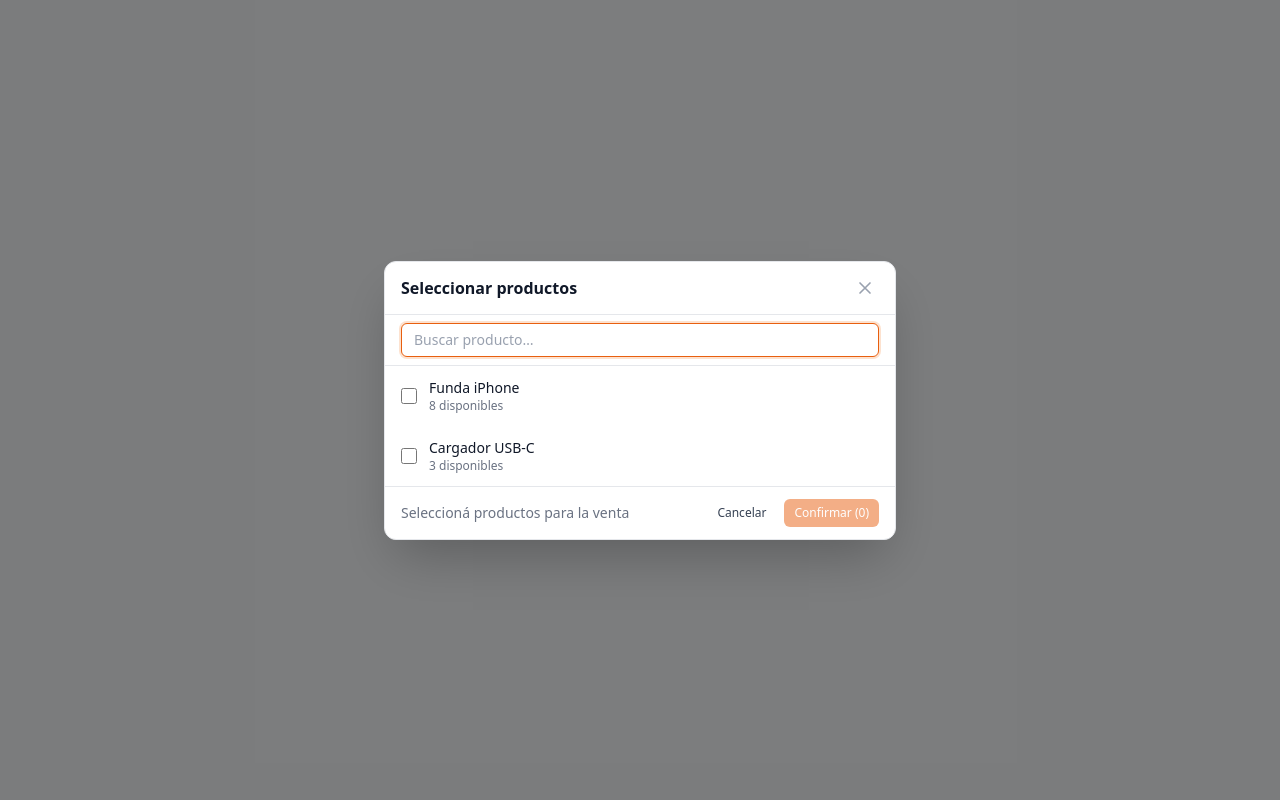
Test: SaleNewModal › refleja la cantidad final cuando se vuelve a elegir el mismo producto
expect the text "Funda iPhone" is shown: met, box left=429, top=378, right=519, bottom=396
Click the checkbox labelled "Funda iPhone 8 disponibles": (409, 396) left=401, top=388, right=417, bottom=404
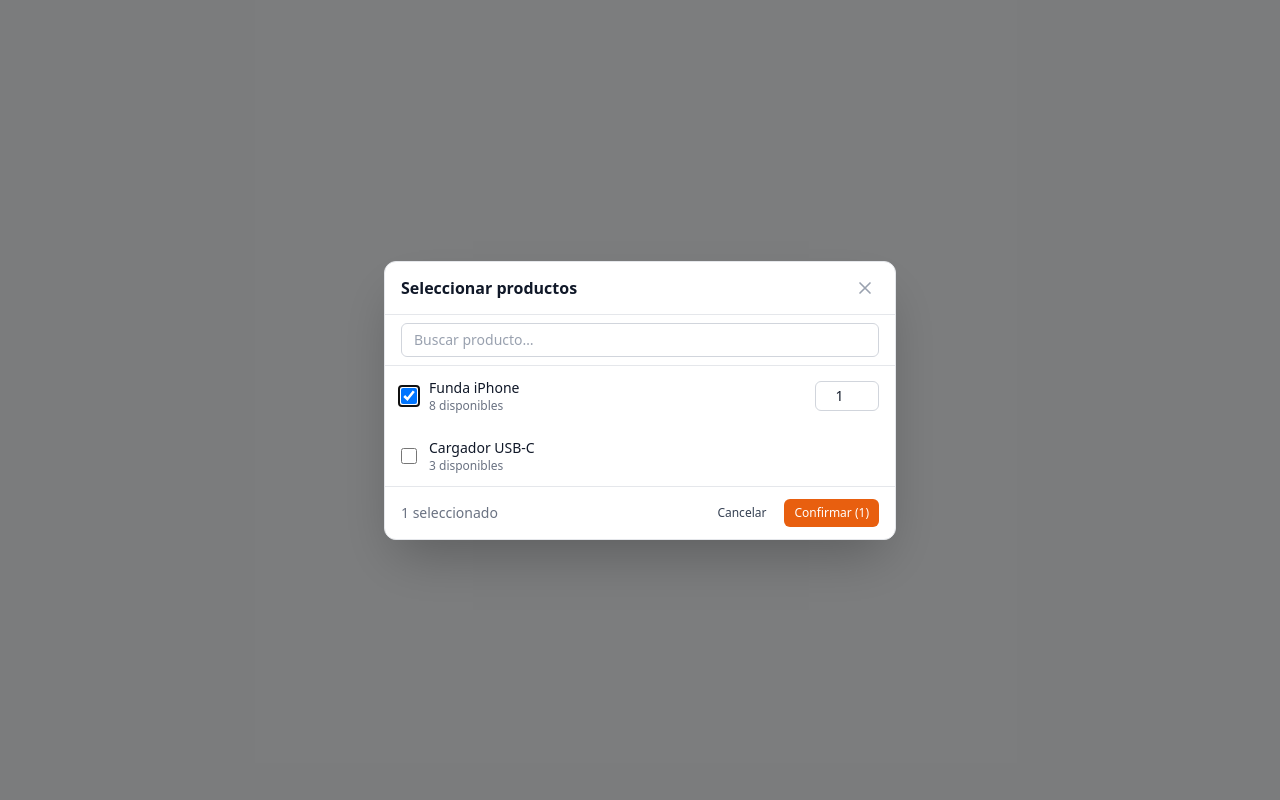
Click the button "Confirmar (1)": (832, 512) left=784, top=498, right=879, bottom=526
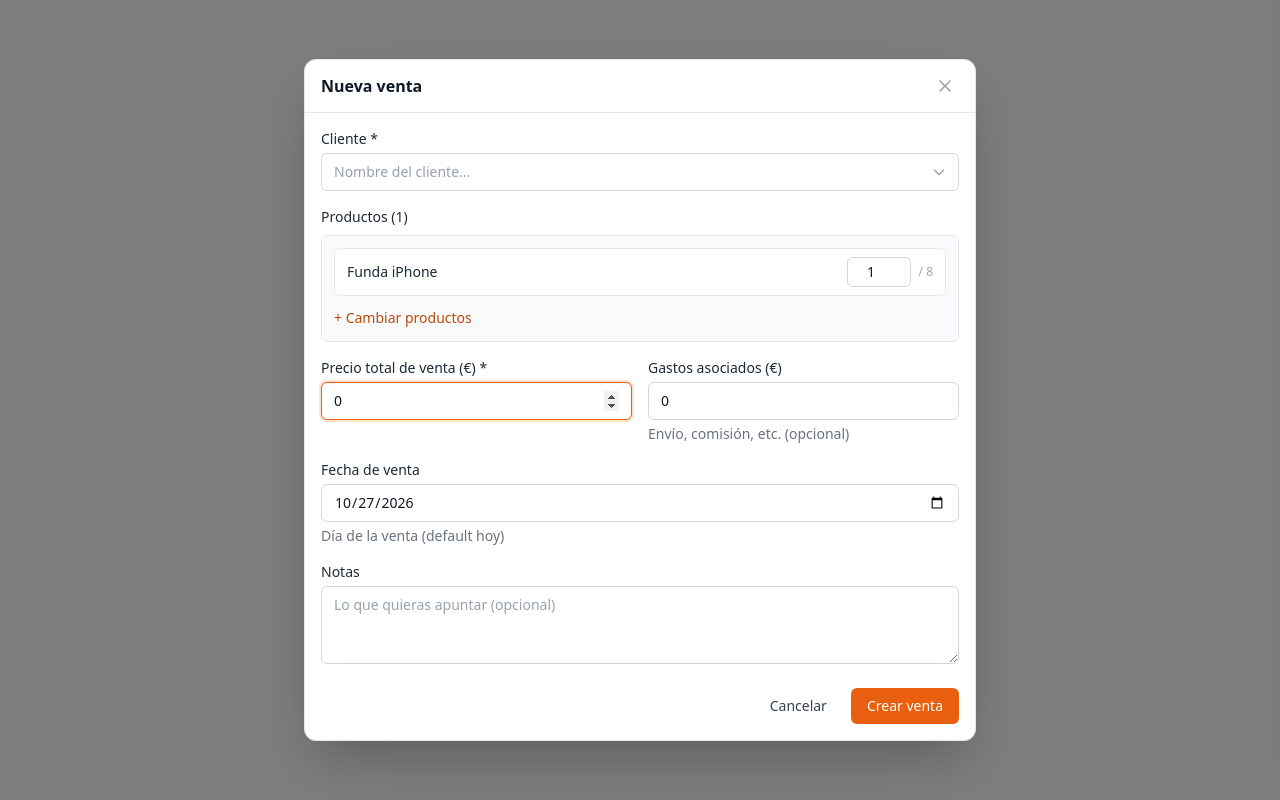
expect the heading "Nueva venta" is shown: met, box left=321, top=74, right=422, bottom=98
expect the text "Productos (1)" is shown: met, box left=321, top=207, right=408, bottom=227
Click the button "+ Cambiar productos": (403, 318) left=334, top=308, right=472, bottom=328
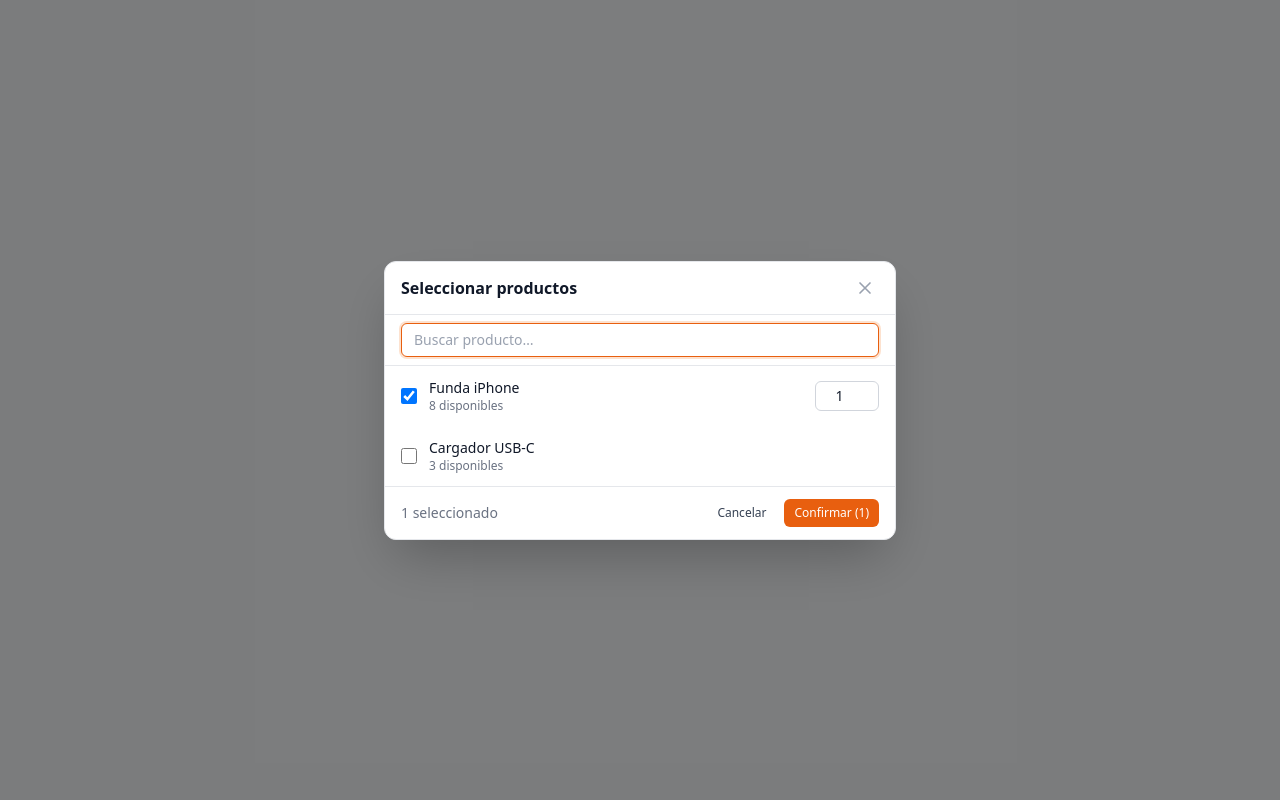
expect the heading "Seleccionar productos" is shown: met, box left=401, top=276, right=577, bottom=300
expect the checkbox labelled "Funda iPhone 8 disponibles" is checked: met, box left=401, top=388, right=417, bottom=404
Replace the text in the number field named "Cantidad para Funda iPhone" with "2": (847, 396) left=815, top=380, right=879, bottom=410
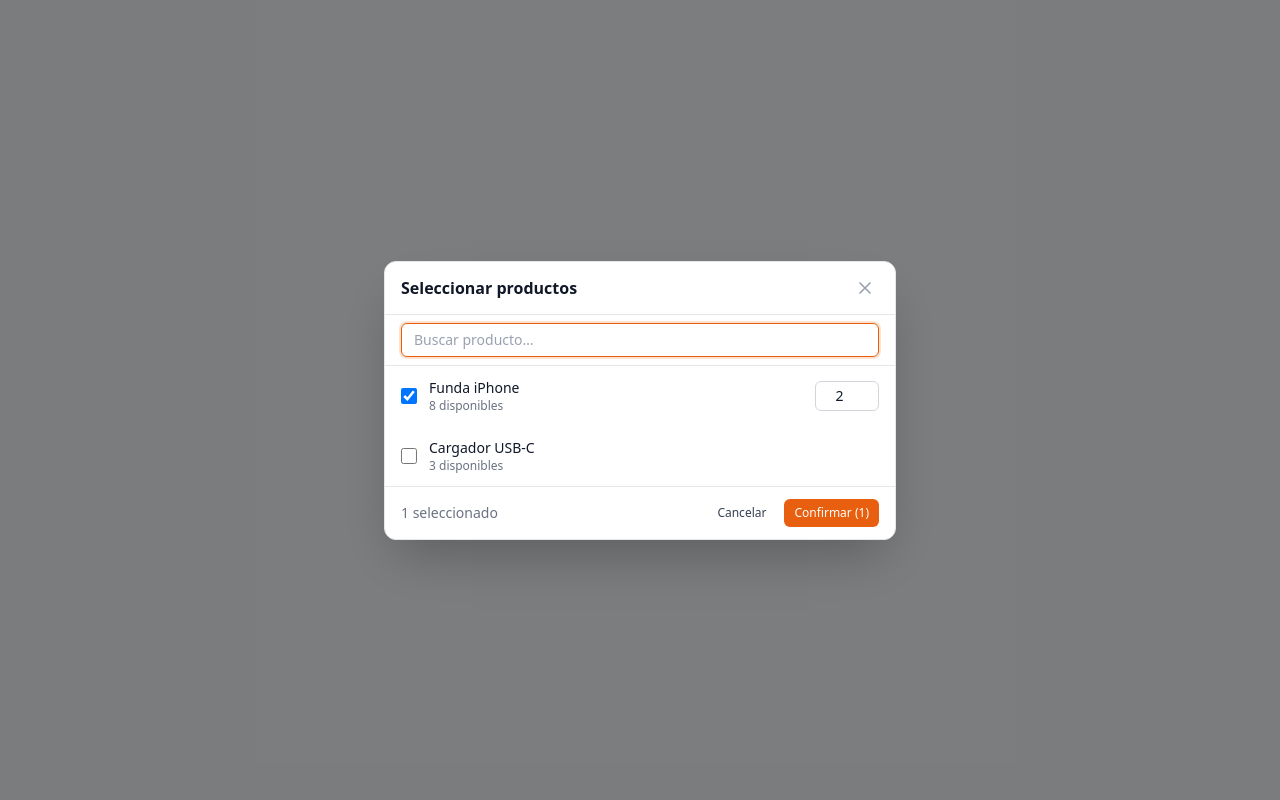
Click the button "Confirmar (1)": (832, 512) left=784, top=498, right=879, bottom=526
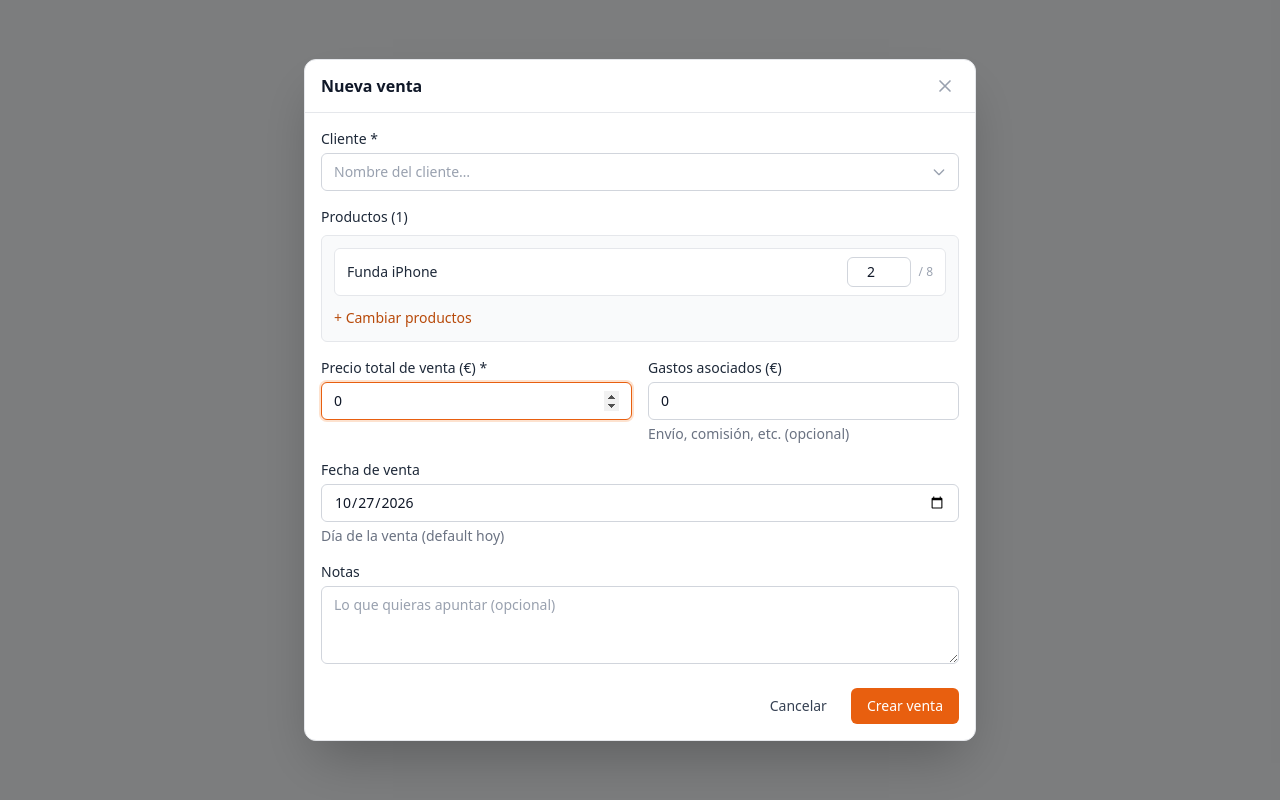
expect the text "Productos (1)" is shown: met, box left=321, top=207, right=408, bottom=227
expect the number field named "Cantidad para Funda iPhone" holds "2": met, box left=846, top=257, right=910, bottom=287
